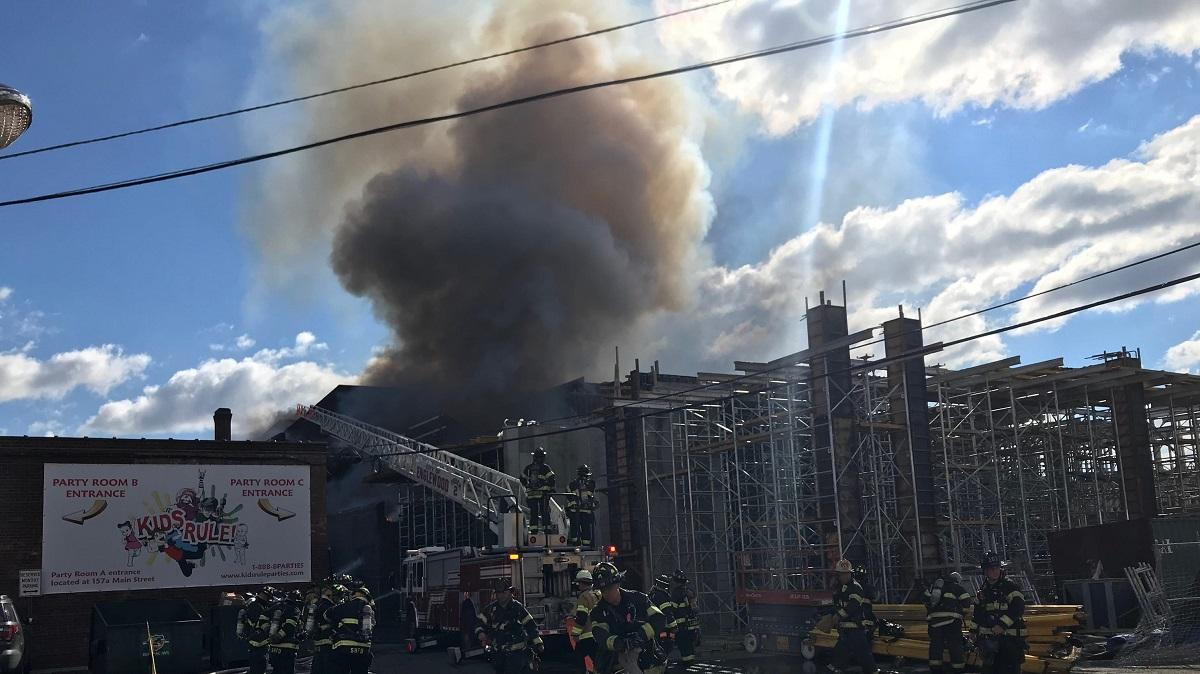smoke: (378, 162, 658, 337)
